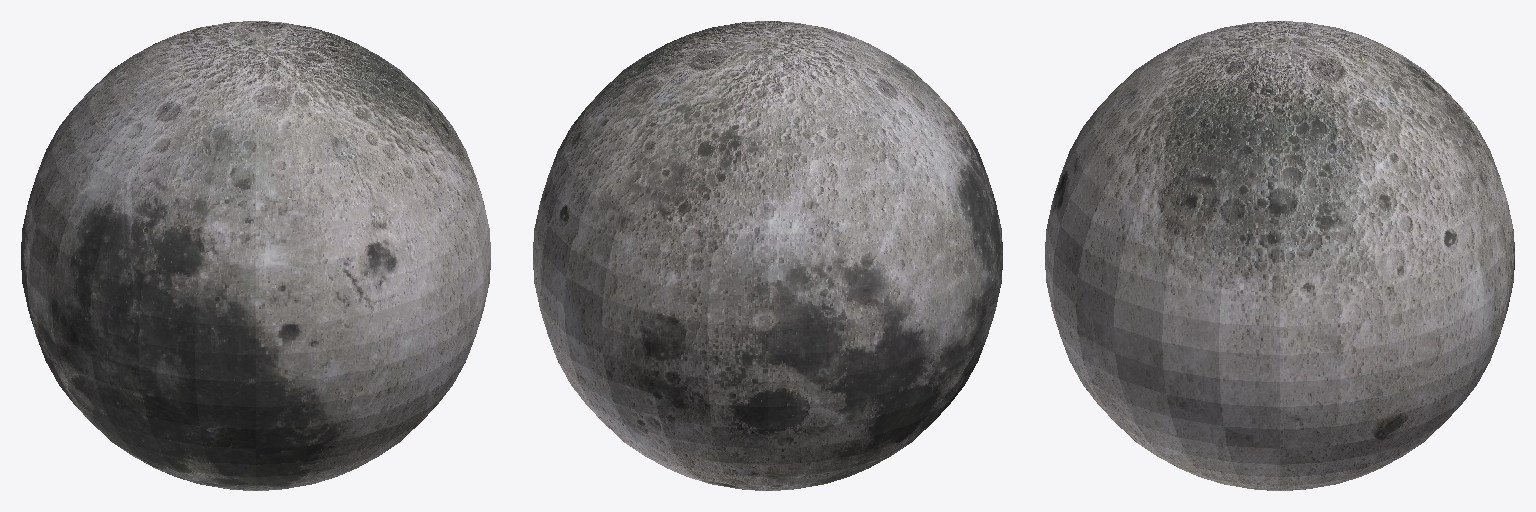
The picture shows the model from 3 angles: view 1: azimuth 30°, elevation 25°; view 2: azimuth 150°, elevation 25°; view 3: azimuth 270°, elevation 25°; orthographic projection.
Parts seen in each view (by area): view 1: Pluto_Neptune; view 2: Pluto_Neptune; view 3: Pluto_Neptune.
Boxes of the visible parts, <box> form: Pluto_Neptune: <box>21,21,490,490</box>; Pluto_Neptune: <box>533,21,1002,490</box>; Pluto_Neptune: <box>1045,21,1514,490</box>.
Bounding box in the file's own units: 1 × 1 × 1.
Materials: 1 (1 with a texture image).